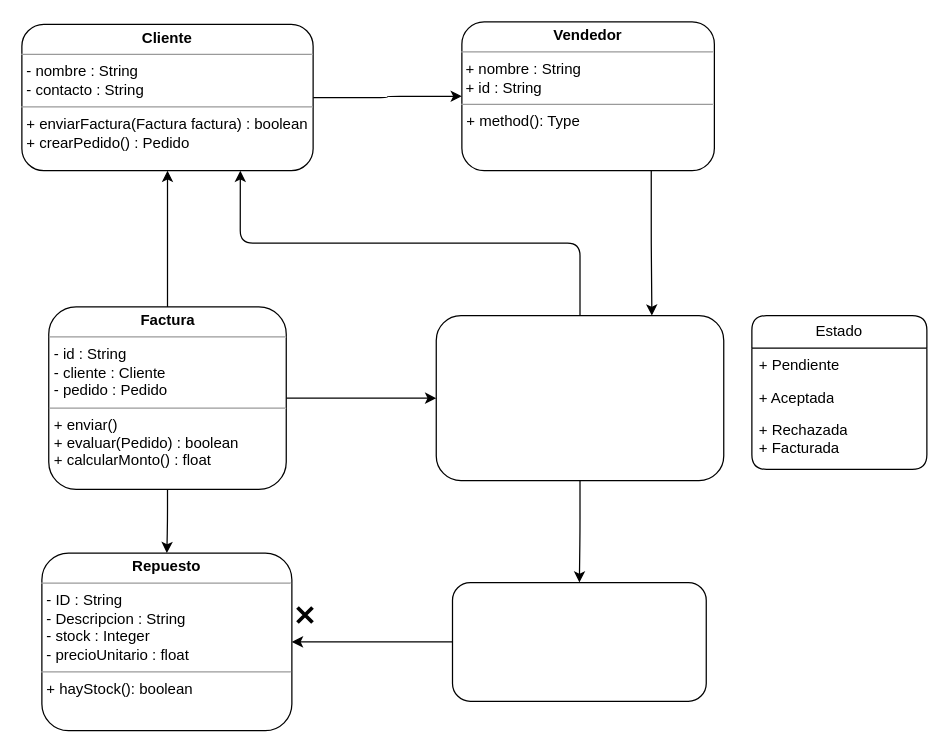
This 949x753 diagram has some shape labels left out. The centre of each missing label's shape, as x and y in pixels:
DetallePedido - cantidad(Pedido) : float: point 578,641
Pedido - fecha : LocalDate - id : String - estado : Enum + completar(): void: point 579,397
